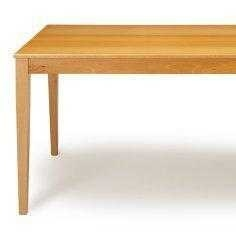obstacle: (16, 25, 235, 214)
